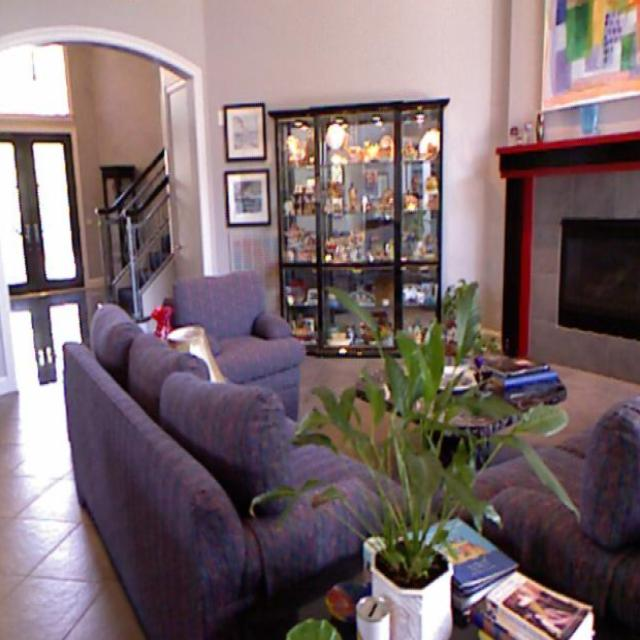door: (0, 96, 97, 298)
obstacle: (53, 301, 381, 617)
